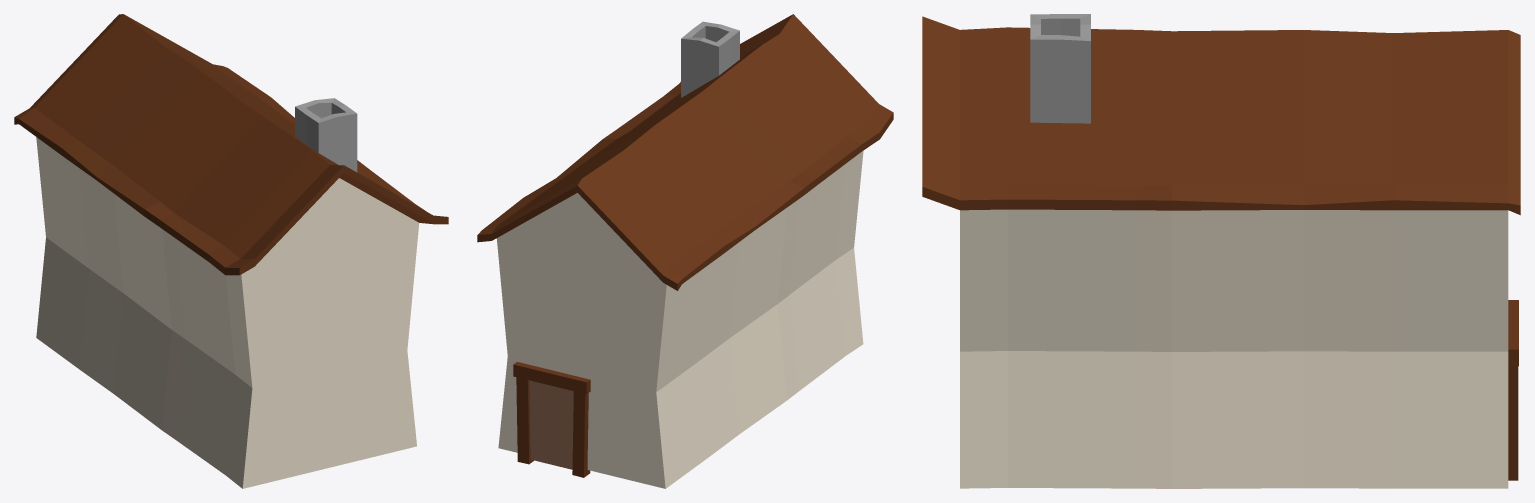
The model's file is house2.fbx.
3 renders of one model, left to right at view 1: azimuth 30°, elevation 25°; view 2: azimuth 150°, elevation 25°; view 3: azimuth 270°, elevation 25°, orthographic. The views are drawn at different scales.
Visible parts, largest first — view 1: Cube, Cube.001; view 2: Cube, Cube.002, Cube.001, Cube.004, Cube.005, Cube.003; view 3: Cube, Cube.001, Cube.003, Cube.005.
Part boxes in pixels (bbox=[...]): Cube: bbox=[14, 14, 448, 488]; Cube.001: bbox=[295, 98, 357, 172]; Cube: bbox=[477, 14, 893, 488]; Cube.002: bbox=[529, 380, 573, 469]; Cube.001: bbox=[681, 21, 739, 97]; Cube.004: bbox=[572, 391, 590, 477]; Cube.005: bbox=[513, 362, 590, 394]; Cube.003: bbox=[516, 377, 533, 464]; Cube: bbox=[922, 16, 1520, 488]; Cube.001: bbox=[1030, 14, 1090, 123]; Cube.003: bbox=[1508, 366, 1518, 480]; Cube.005: bbox=[1508, 300, 1518, 366].
Bounding box in the file's own units: 353 × 527 × 655.
